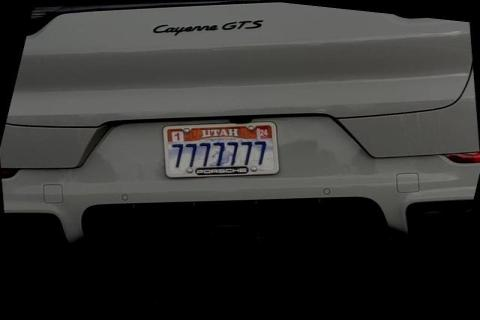LicensePlate: (160, 120, 278, 177)
